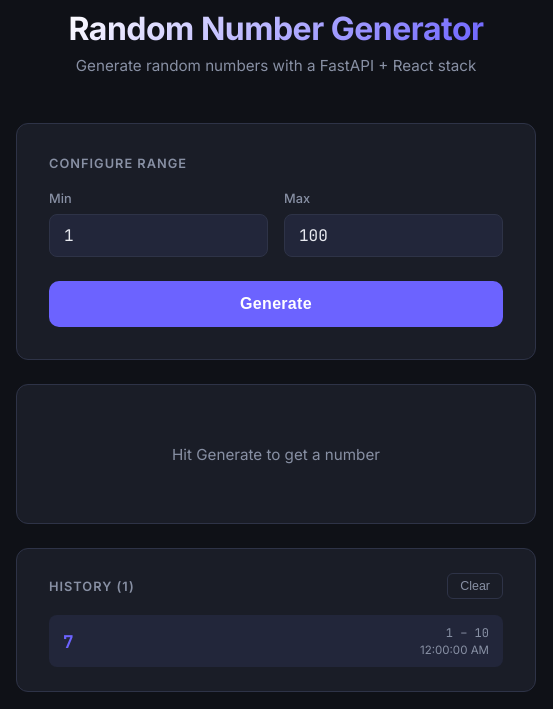
it: History panel › clears history when Clear is clicked
The image size is (553, 709).
Step 1. Click the button "Clear" → (475, 586), box [447,573,503,599]
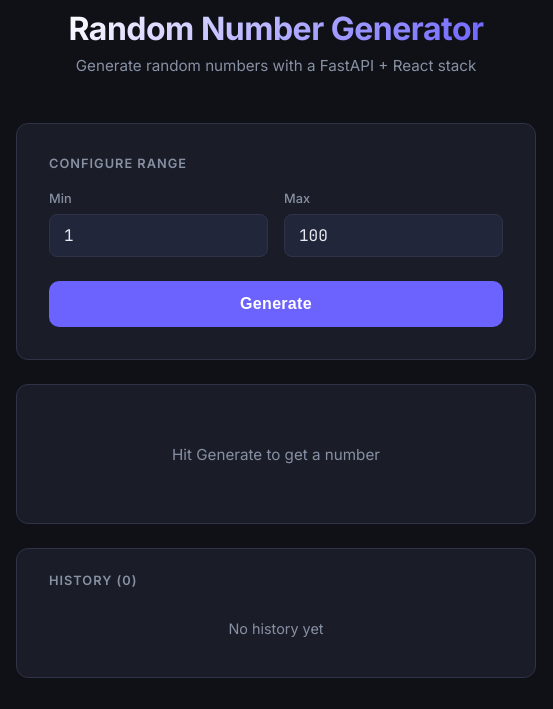
Now the text "No history yet" is shown, box [228,620,324,637]
